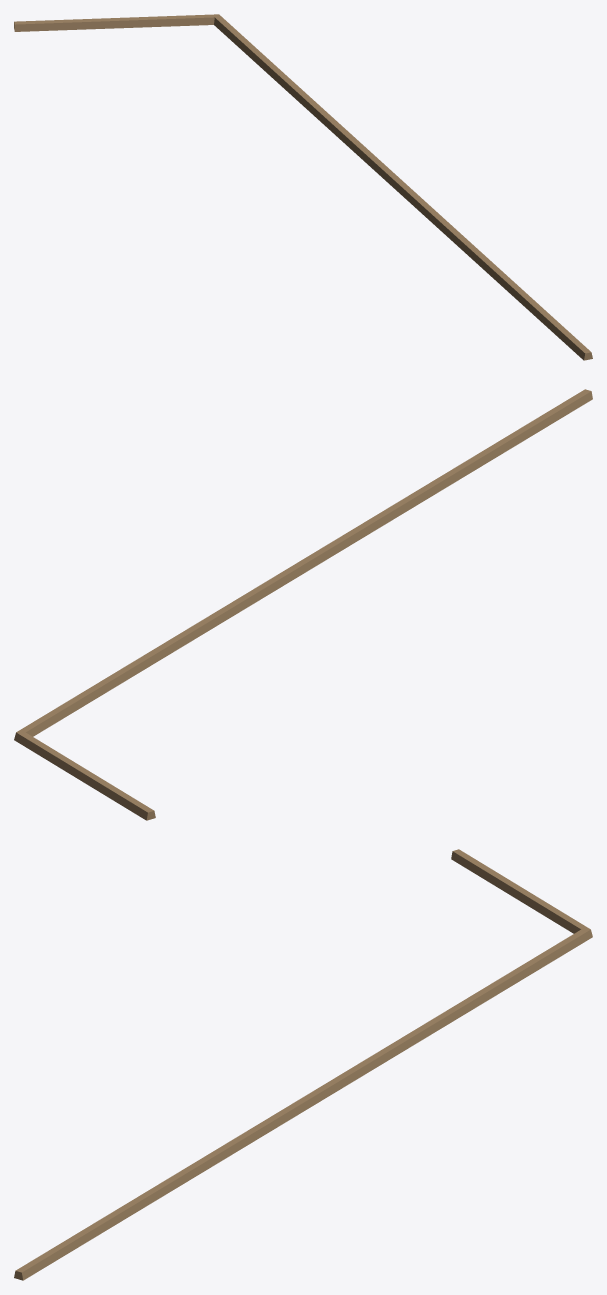
The model's file is wall-02.glb.
3 views of the same model, one above another, from view 1: azimuth 30°, elevation 25°; view 2: azimuth 150°, elevation 25°; view 3: azimuth 330°, elevation 25° (orthographic). The views are drawn at different scales.
Visible parts, largest first — view 1: C_wall_A_02; view 2: C_wall_A_02; view 3: C_wall_A_02.
Boxes of the visible parts, <box> form: C_wall_A_02: <box>14,14,592,360</box>; C_wall_A_02: <box>14,389,592,820</box>; C_wall_A_02: <box>14,849,592,1280</box>.
Bounding box in the file's own units: 153 × 6.03 × 772.
